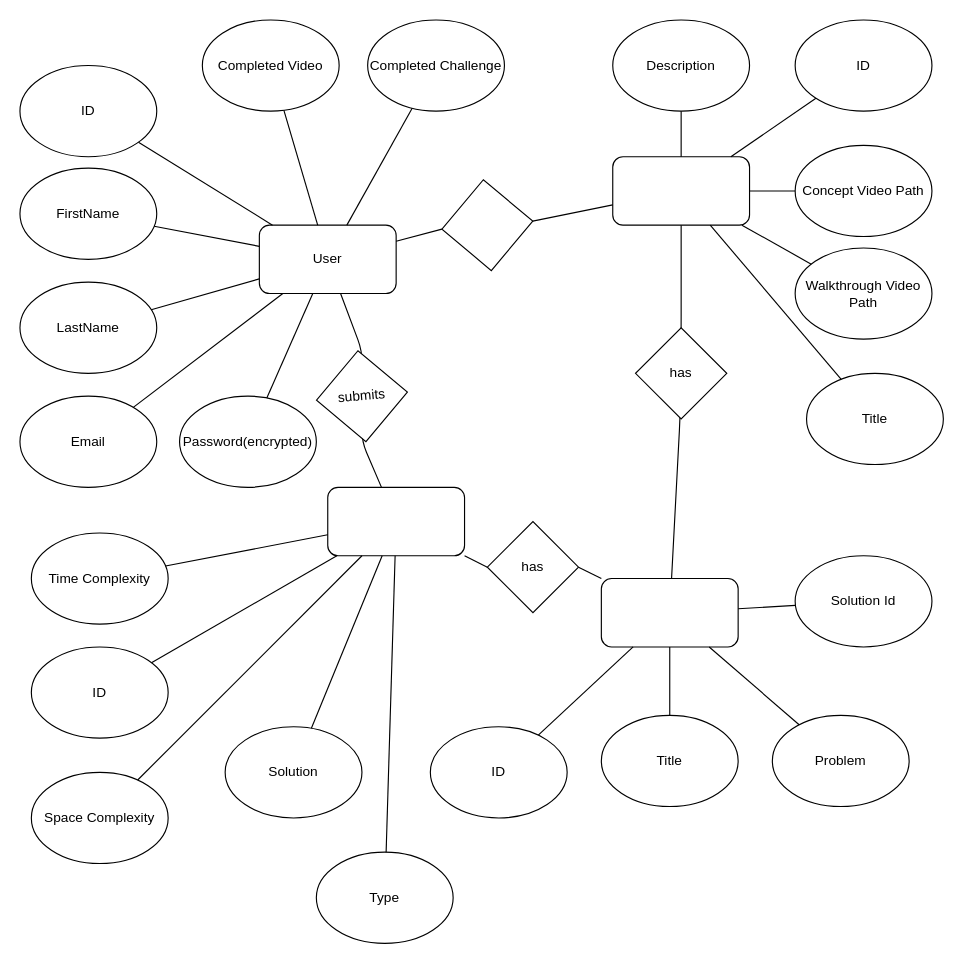
Some shapes in this 963 by 963 pixel diagram are drawn without their labels. Each missing label, with the centre of its shape:
"Challenges" belongs at point (669, 612).
"completes" belongs at point (487, 225).
"Learning Material" belongs at point (681, 190).
"Solutions" belongs at point (396, 521).
